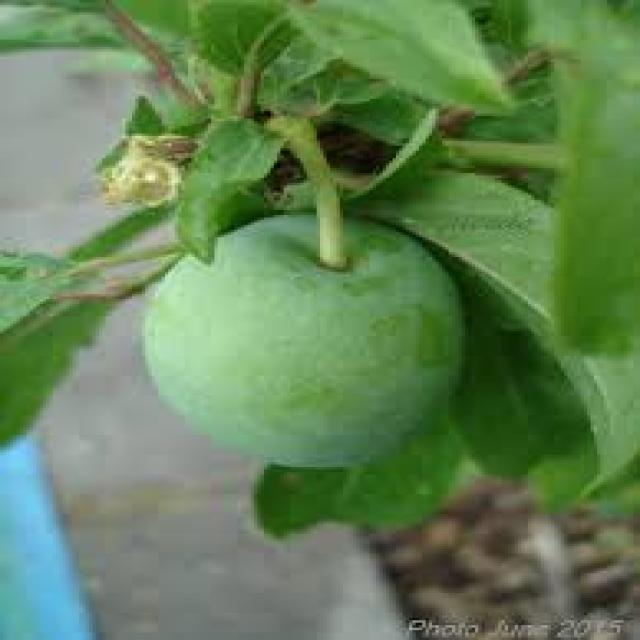Organik: (154, 207, 472, 451)
